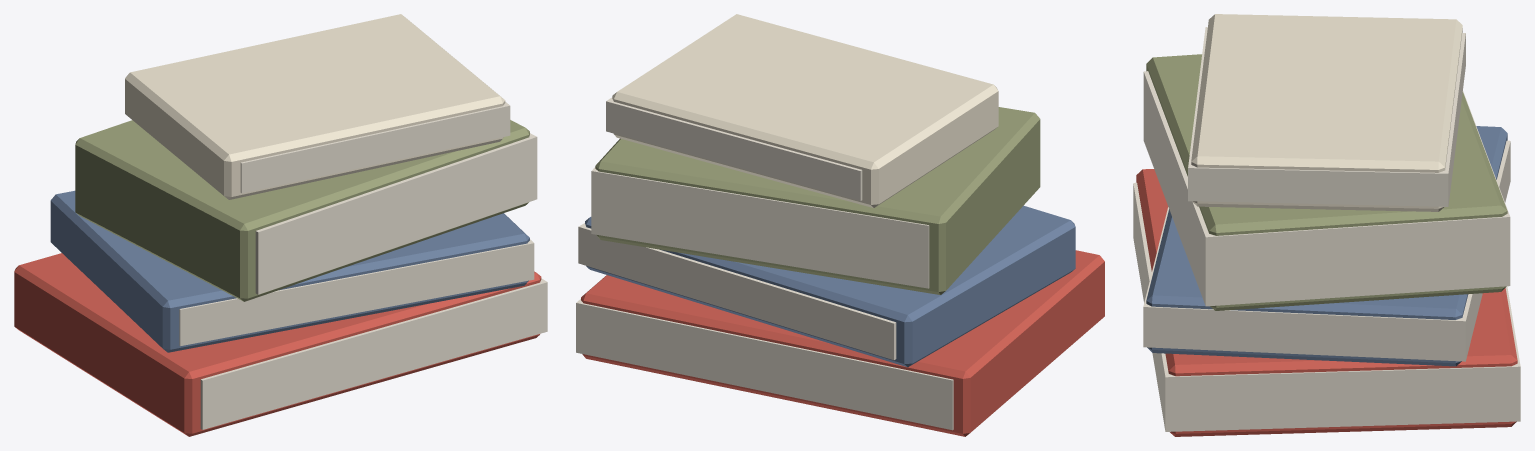
Rendered from Garage_Books.glb.
3 views of the same model, side by side, from view 1: azimuth 30°, elevation 25°; view 2: azimuth 150°, elevation 25°; view 3: azimuth 270°, elevation 25° (orthographic). The views are drawn at different scales.
Visible parts, largest first — view 1: Garage_Books; view 2: Garage_Books; view 3: Garage_Books.
Boxes of the visible parts, box(x1,y1,x2,y2) form: Garage_Books: box(14, 14, 547, 436); Garage_Books: box(576, 14, 1104, 436); Garage_Books: box(1133, 14, 1520, 436).
Size of the model in its own units: 0.3217 by 0.185 by 0.2437.
